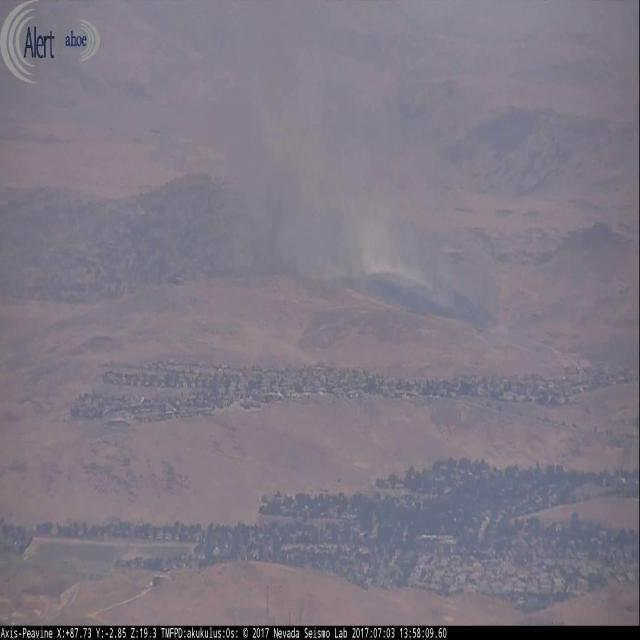smoke: (217, 36, 456, 316)
